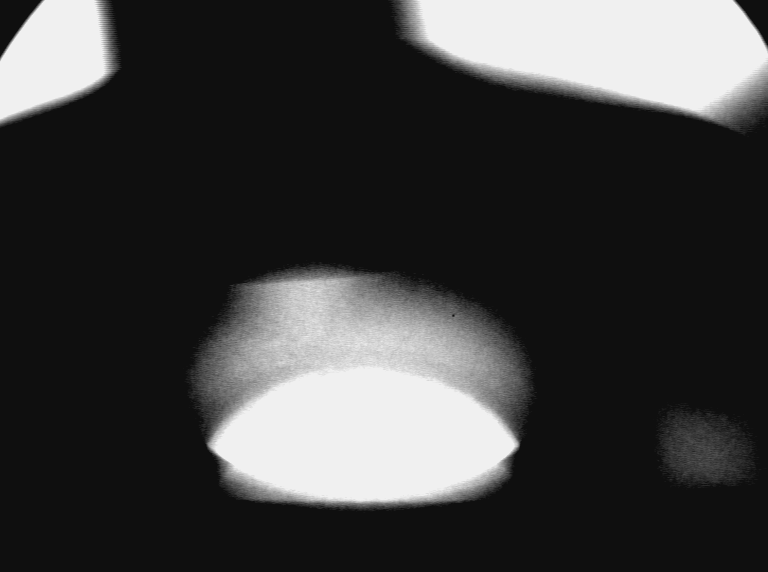defect: (163, 320, 329, 418)
